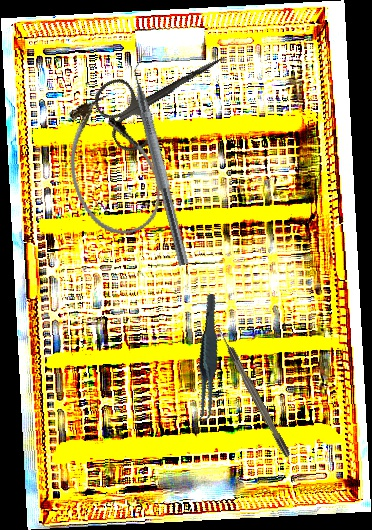Cannula: (48, 88, 174, 246)
Chopper: (122, 48, 204, 267)
Hook Surgical: (214, 324, 292, 459)
Iris Scissors: (87, 26, 244, 158)
Tissue Forceps: (172, 293, 243, 427)
